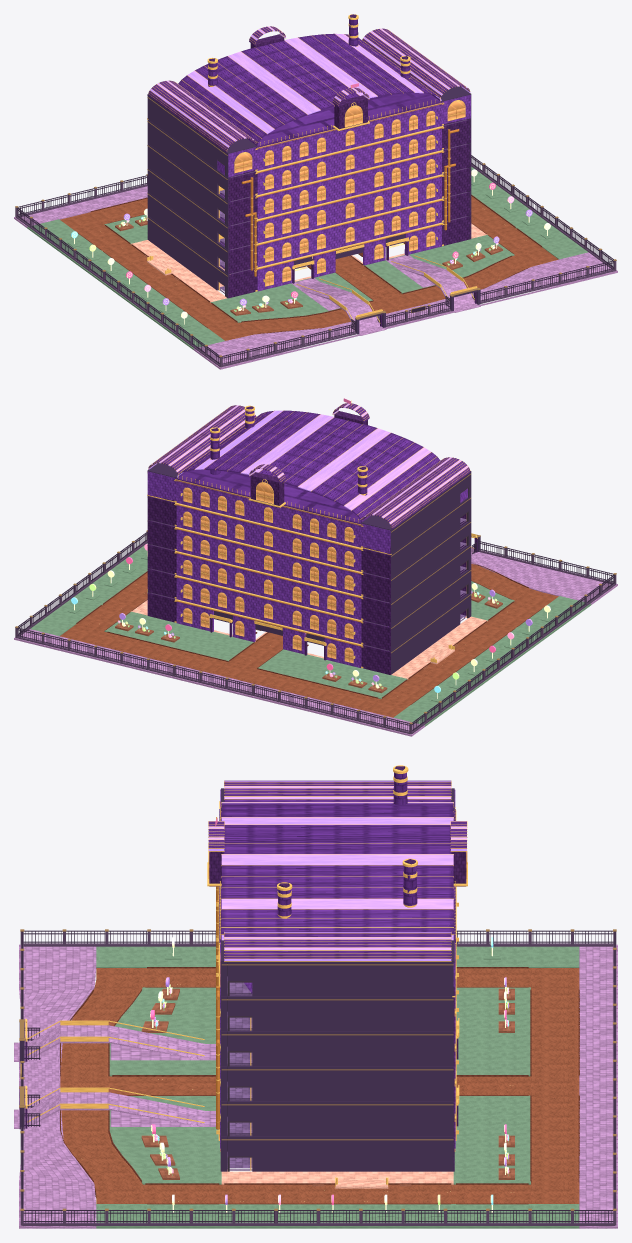
Rendered from Chocolate-River-World.glb.
3 renders of one model, top to bottom at view 1: azimuth 30°, elevation 25°; view 2: azimuth 150°, elevation 25°; view 3: azimuth 270°, elevation 25°, orthographic. The views are drawn at different scales.
Parts seen in each view (by area): view 1: object 1, Game furniture and door frames; view 2: object 1, Game furniture and door frames; view 3: object 1, Game furniture and door frames.
Boxes of the visible parts, x1,y1,x2,y2 form: object 1: [14, 14, 617, 369]; Game furniture and door frames: [15, 86, 616, 367]; object 1: [14, 398, 617, 736]; Game furniture and door frames: [15, 463, 616, 734]; object 1: [14, 765, 617, 1228]; Game furniture and door frames: [19, 788, 616, 1225].
Bounding box in the file's own units: 138 × 63.91 × 125.
Materials: 47 (18 with a texture image).
